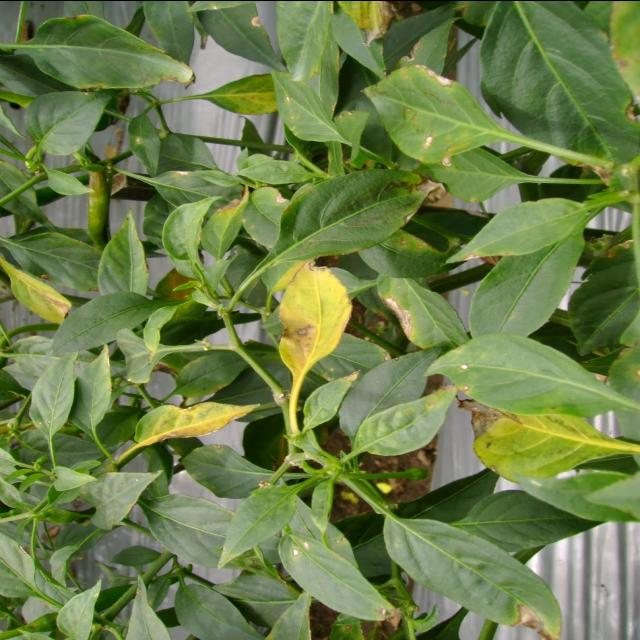bercak_daun: (259, 244, 357, 397)
